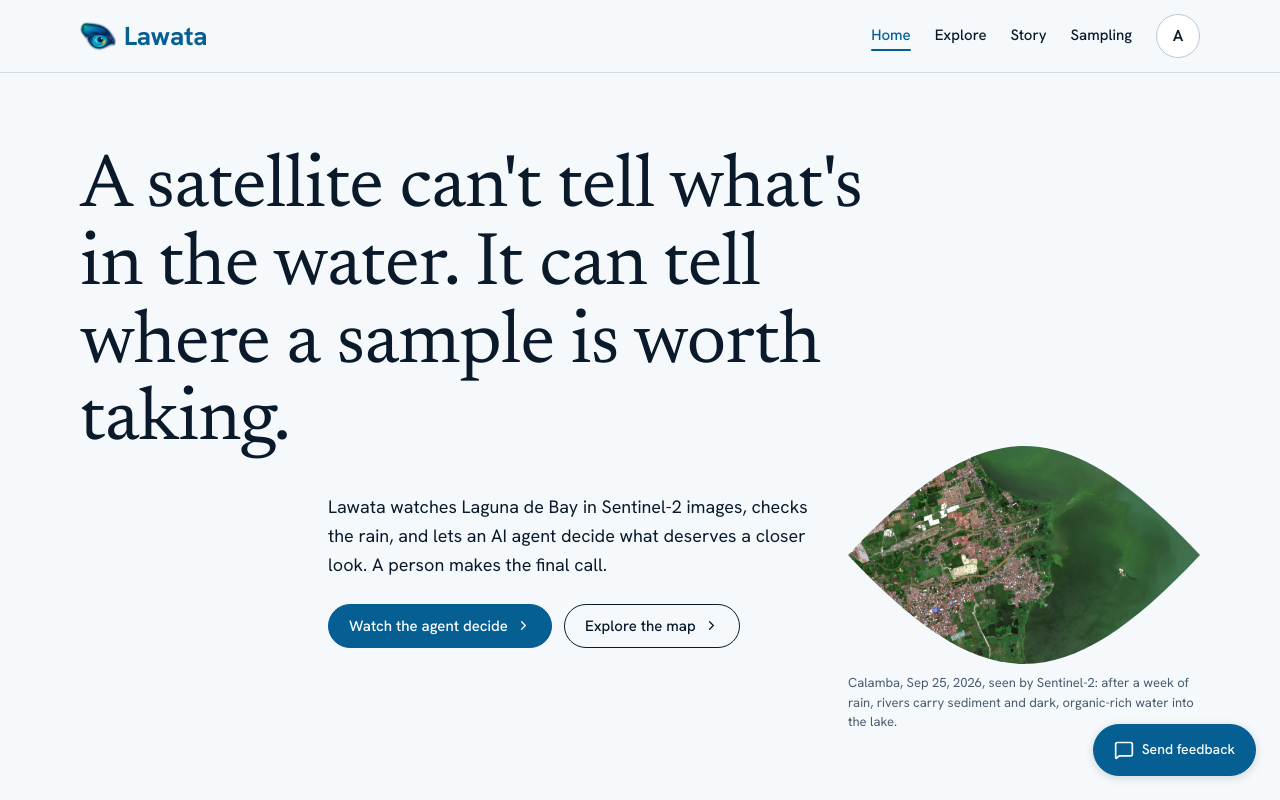
Test case: shell › keeps account and theme in one menu that opens, and closes on Escape
The width and height of the screenshot is (1280, 800).
Click the button named "Account menu" at (1178, 36), box [1156,14,1200,58]
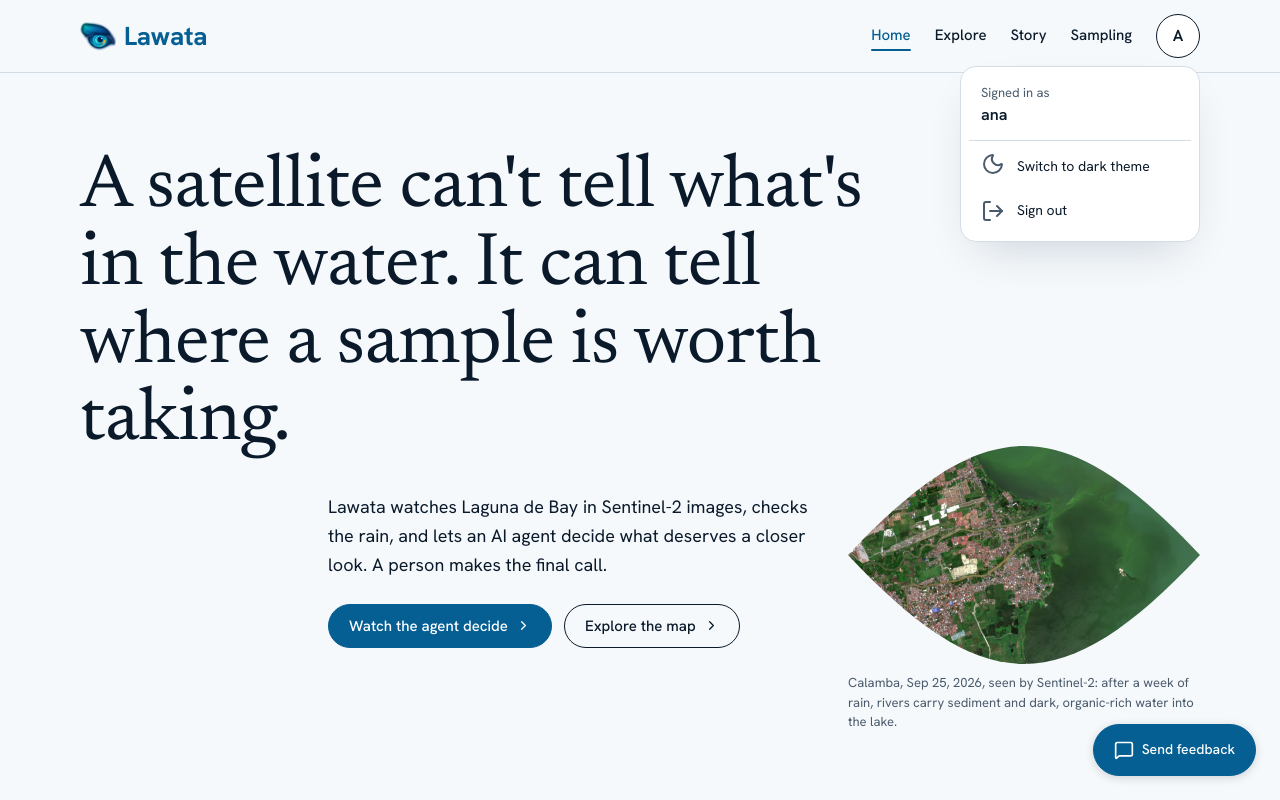
Check: the button named "Account menu" is expanded, box [1156,14,1200,58]
Check: the text "ana" is shown, box [981,104,1007,125]
Check: the button "Sign out" is shown, box [969,189,1191,233]
Press Escape
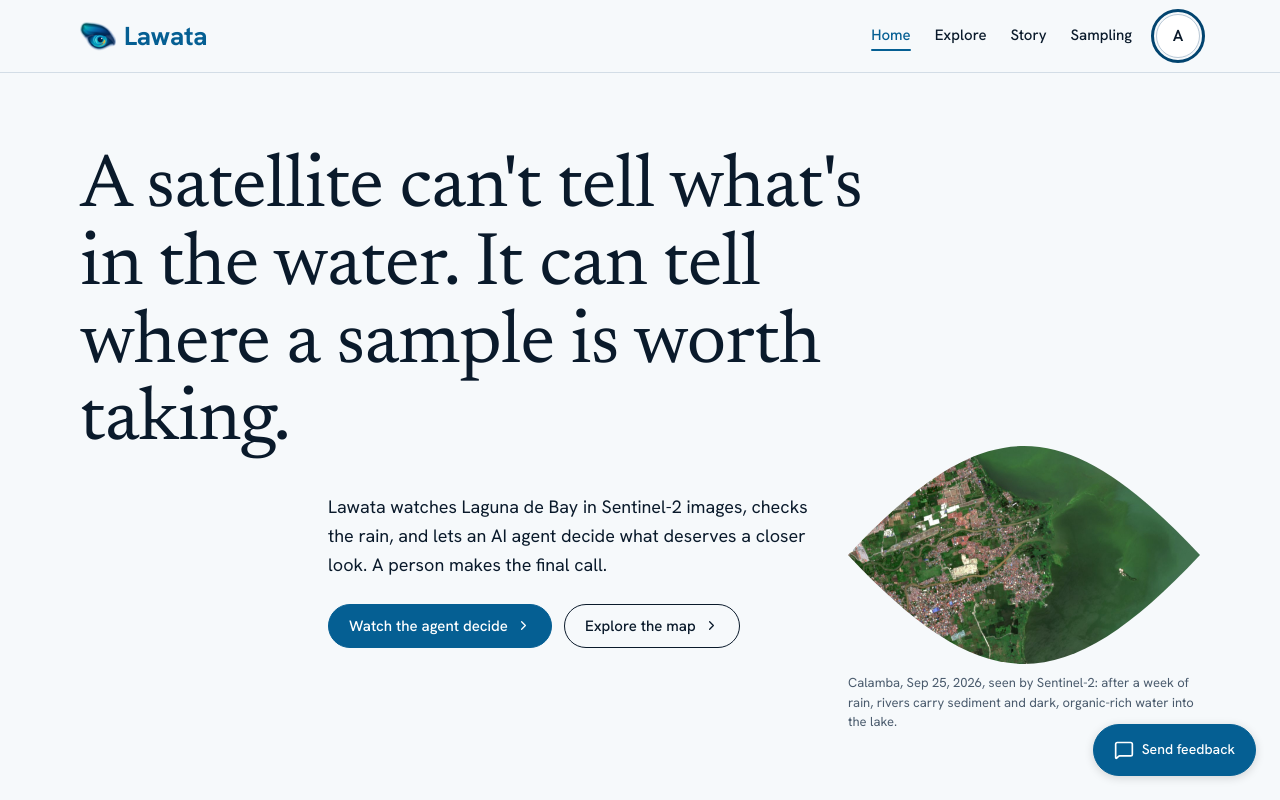
Check: the button named "Account menu" is collapsed, box [1156,14,1200,58]
